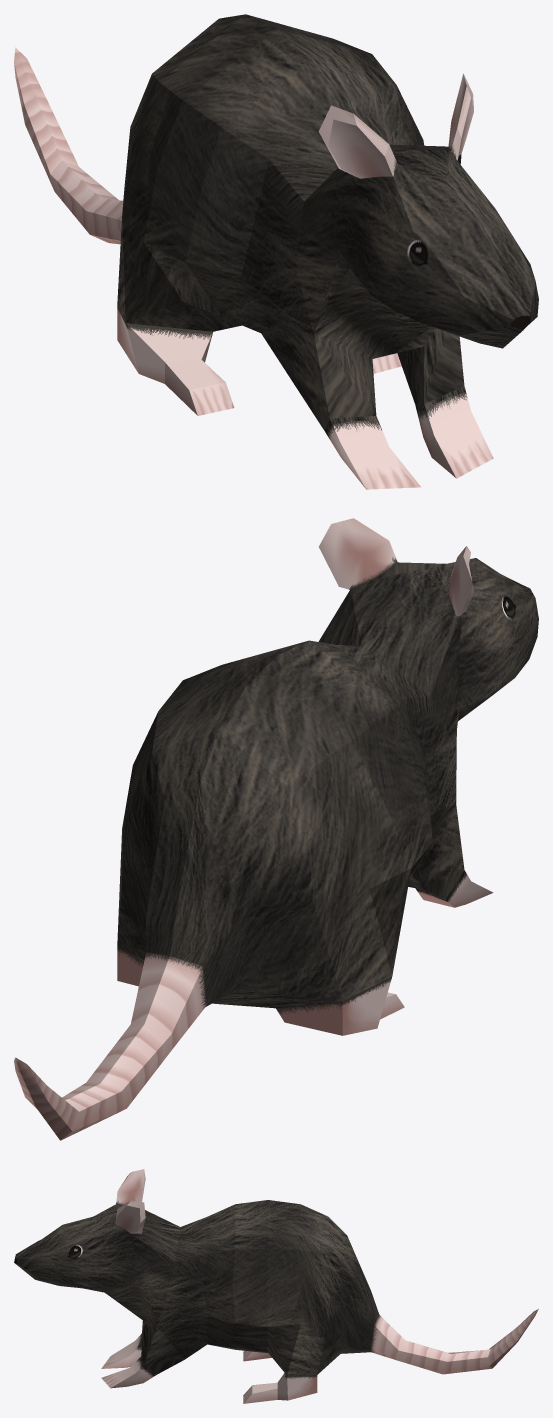
The model's file is rat.fbx.
The picture shows the model from 3 angles, top to bottom: view 1: azimuth 30°, elevation 25°; view 2: azimuth 150°, elevation 25°; view 3: azimuth 270°, elevation 25°; orthographic projection. The views are drawn at different scales.
Parts seen in each view (by area): view 1: pSphere8; view 2: pSphere8; view 3: pSphere8.
Boxes of the visible parts, bbox=[...] form: pSphere8: bbox=[14, 14, 538, 489]; pSphere8: bbox=[14, 518, 538, 1140]; pSphere8: bbox=[14, 1169, 538, 1403].
Bounding box in the file's own units: 4.32 × 5.74 × 14.18.
1 material, 1 textured.
